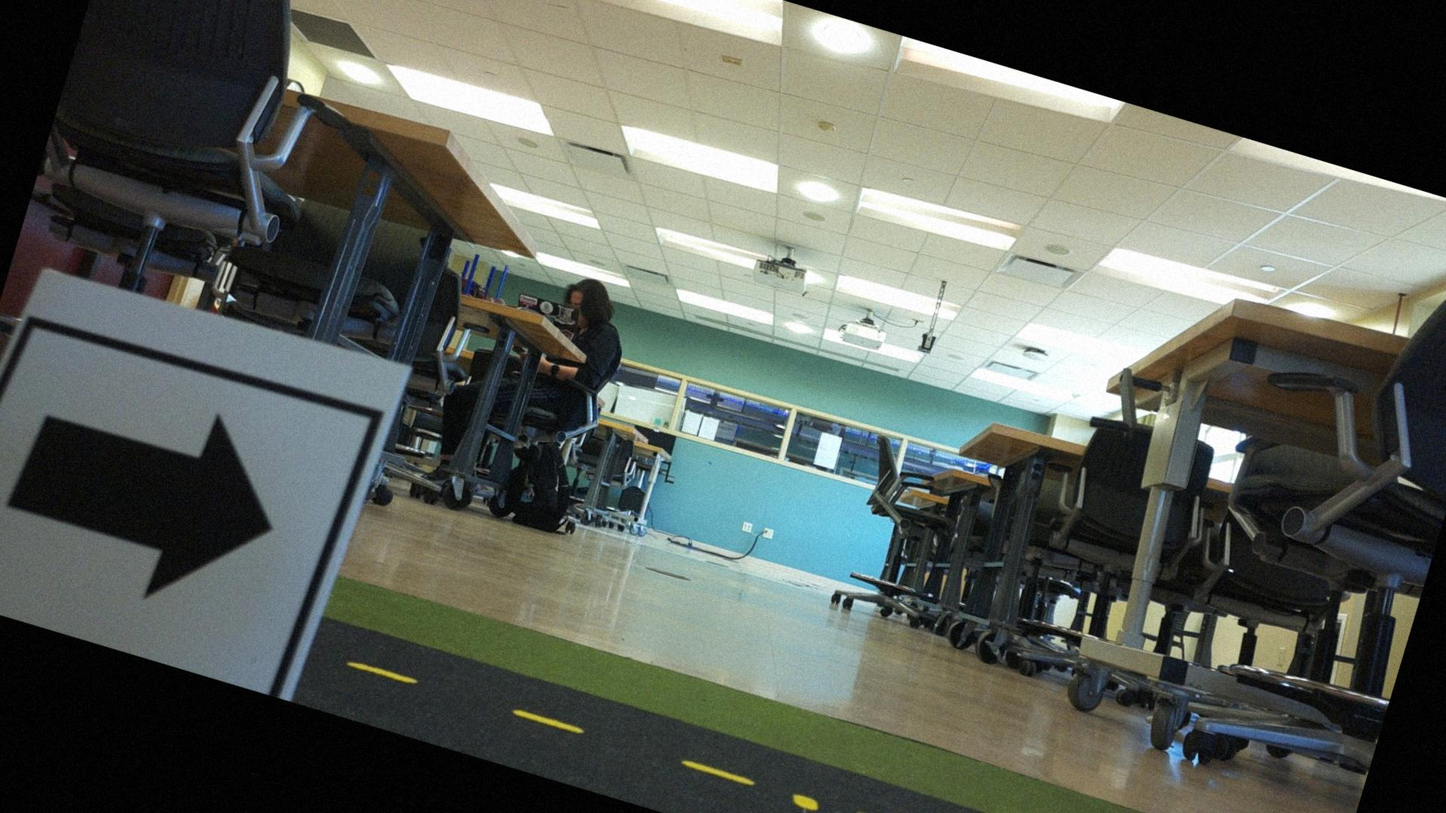turnright: (0, 315, 370, 700)
yellowline: (345, 652, 1318, 812), (770, 786, 846, 812)
